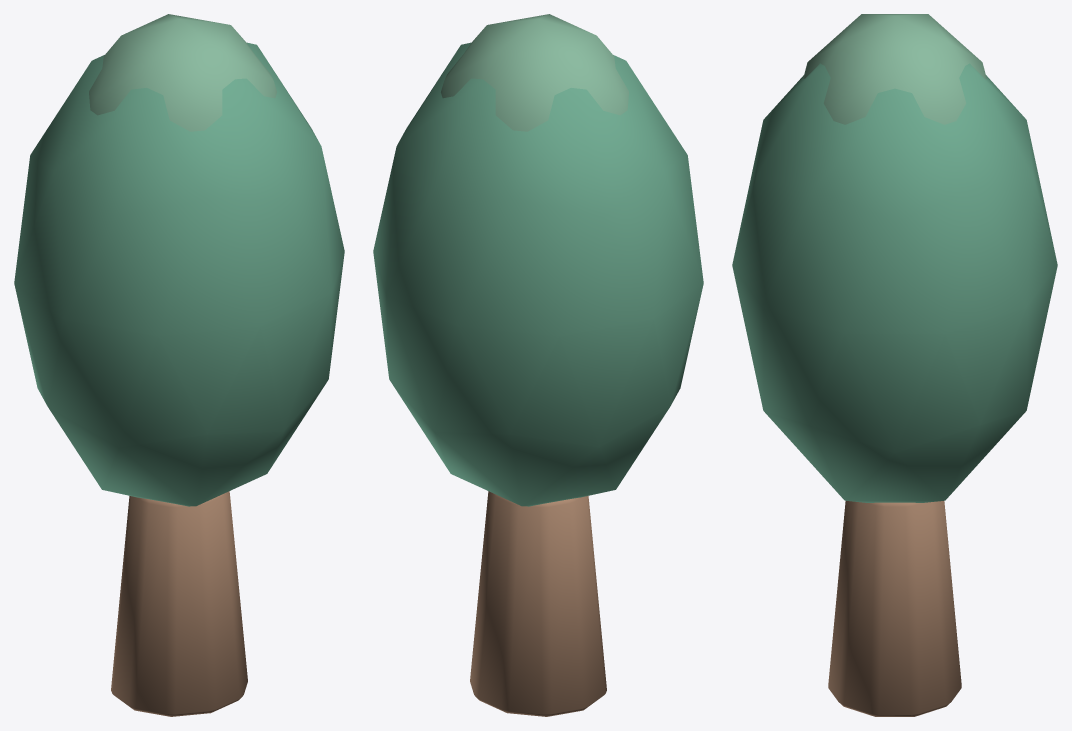
File: tree-slender.glb
The picture shows the model from 3 angles, left to right: view 1: azimuth 30°, elevation 25°; view 2: azimuth 150°, elevation 25°; view 3: azimuth 270°, elevation 25°; orthographic projection.
Visible parts, largest first — view 1: tree-slender; view 2: tree-slender; view 3: tree-slender.
Part boxes in pixels (x1,y1,x2,y2): tree-slender: (14, 14, 344, 716); tree-slender: (373, 14, 703, 716); tree-slender: (732, 14, 1057, 716).
Bounding box in the file's own units: 0.7 × 1.6 × 0.7.
